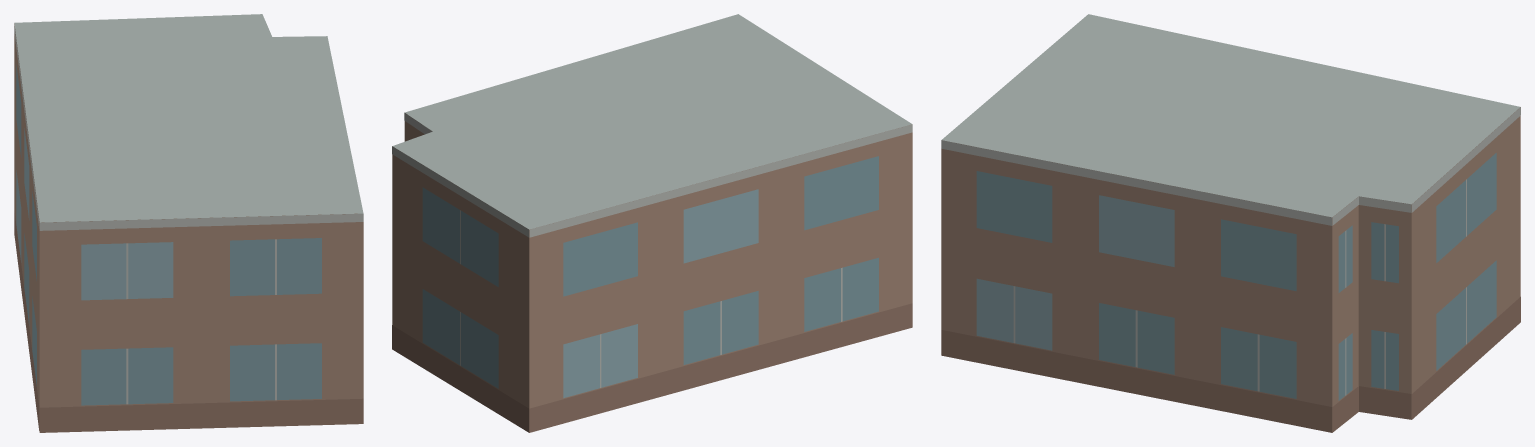
Rendered from survey-upis-32735436.glb.
The picture shows the model from 3 angles, left to right: view 1: azimuth 30°, elevation 25°; view 2: azimuth 150°, elevation 25°; view 3: azimuth 270°, elevation 25°; orthographic projection. The views are drawn at different scales.
Visible parts, largest first — view 1: survey-upis-32735436.tmp; view 2: survey-upis-32735436.tmp; view 3: survey-upis-32735436.tmp.
Boxes of the visible parts, box(x1,y1,x2,y2) form: survey-upis-32735436.tmp: box(14, 14, 363, 432); survey-upis-32735436.tmp: box(392, 14, 912, 432); survey-upis-32735436.tmp: box(941, 14, 1520, 432).
Bounding box in the file's own units: 12.36 × 6.1 × 14.87.
